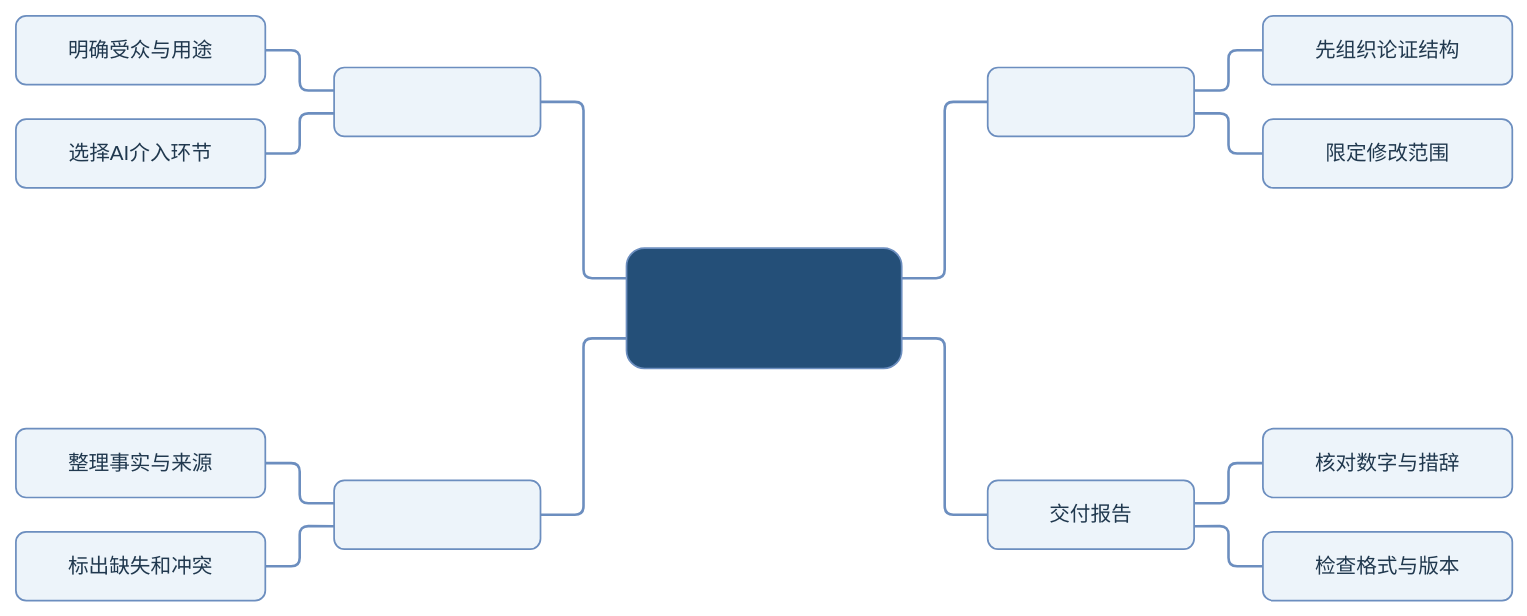
Image size: 1527x616. Some labels were removed from this diagram. The centre of each missing label's shape, as x and y in pixels:
"建立底稿" belongs at (x=437, y=514).
"形成正文" belongs at (x=1090, y=101).
"界定写作" belongs at (x=437, y=101).
"第4章 文档写作" belongs at (x=763, y=308).
